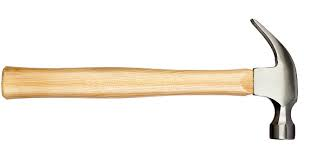hammer: (1, 18, 299, 141)
